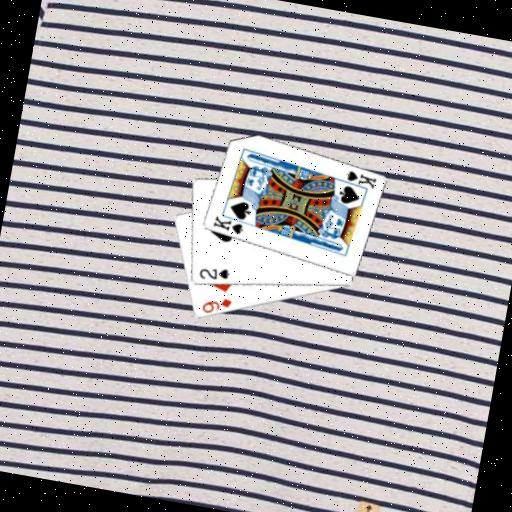2S: (194, 261, 232, 285)
9D: (198, 291, 234, 319)
KS: (337, 166, 378, 194), (209, 212, 246, 236)
